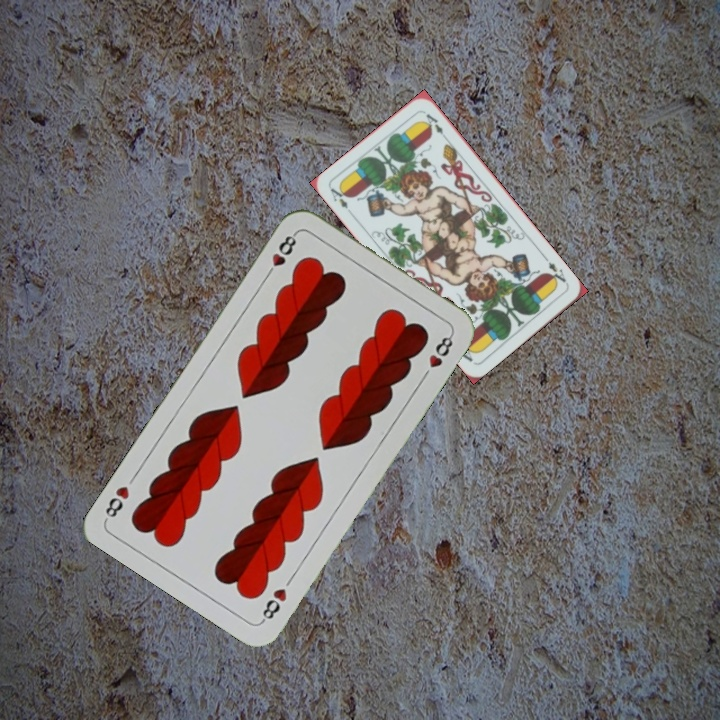EA: (326, 183, 355, 218), (543, 258, 570, 288)
H8: (261, 228, 300, 281), (257, 584, 290, 625)
